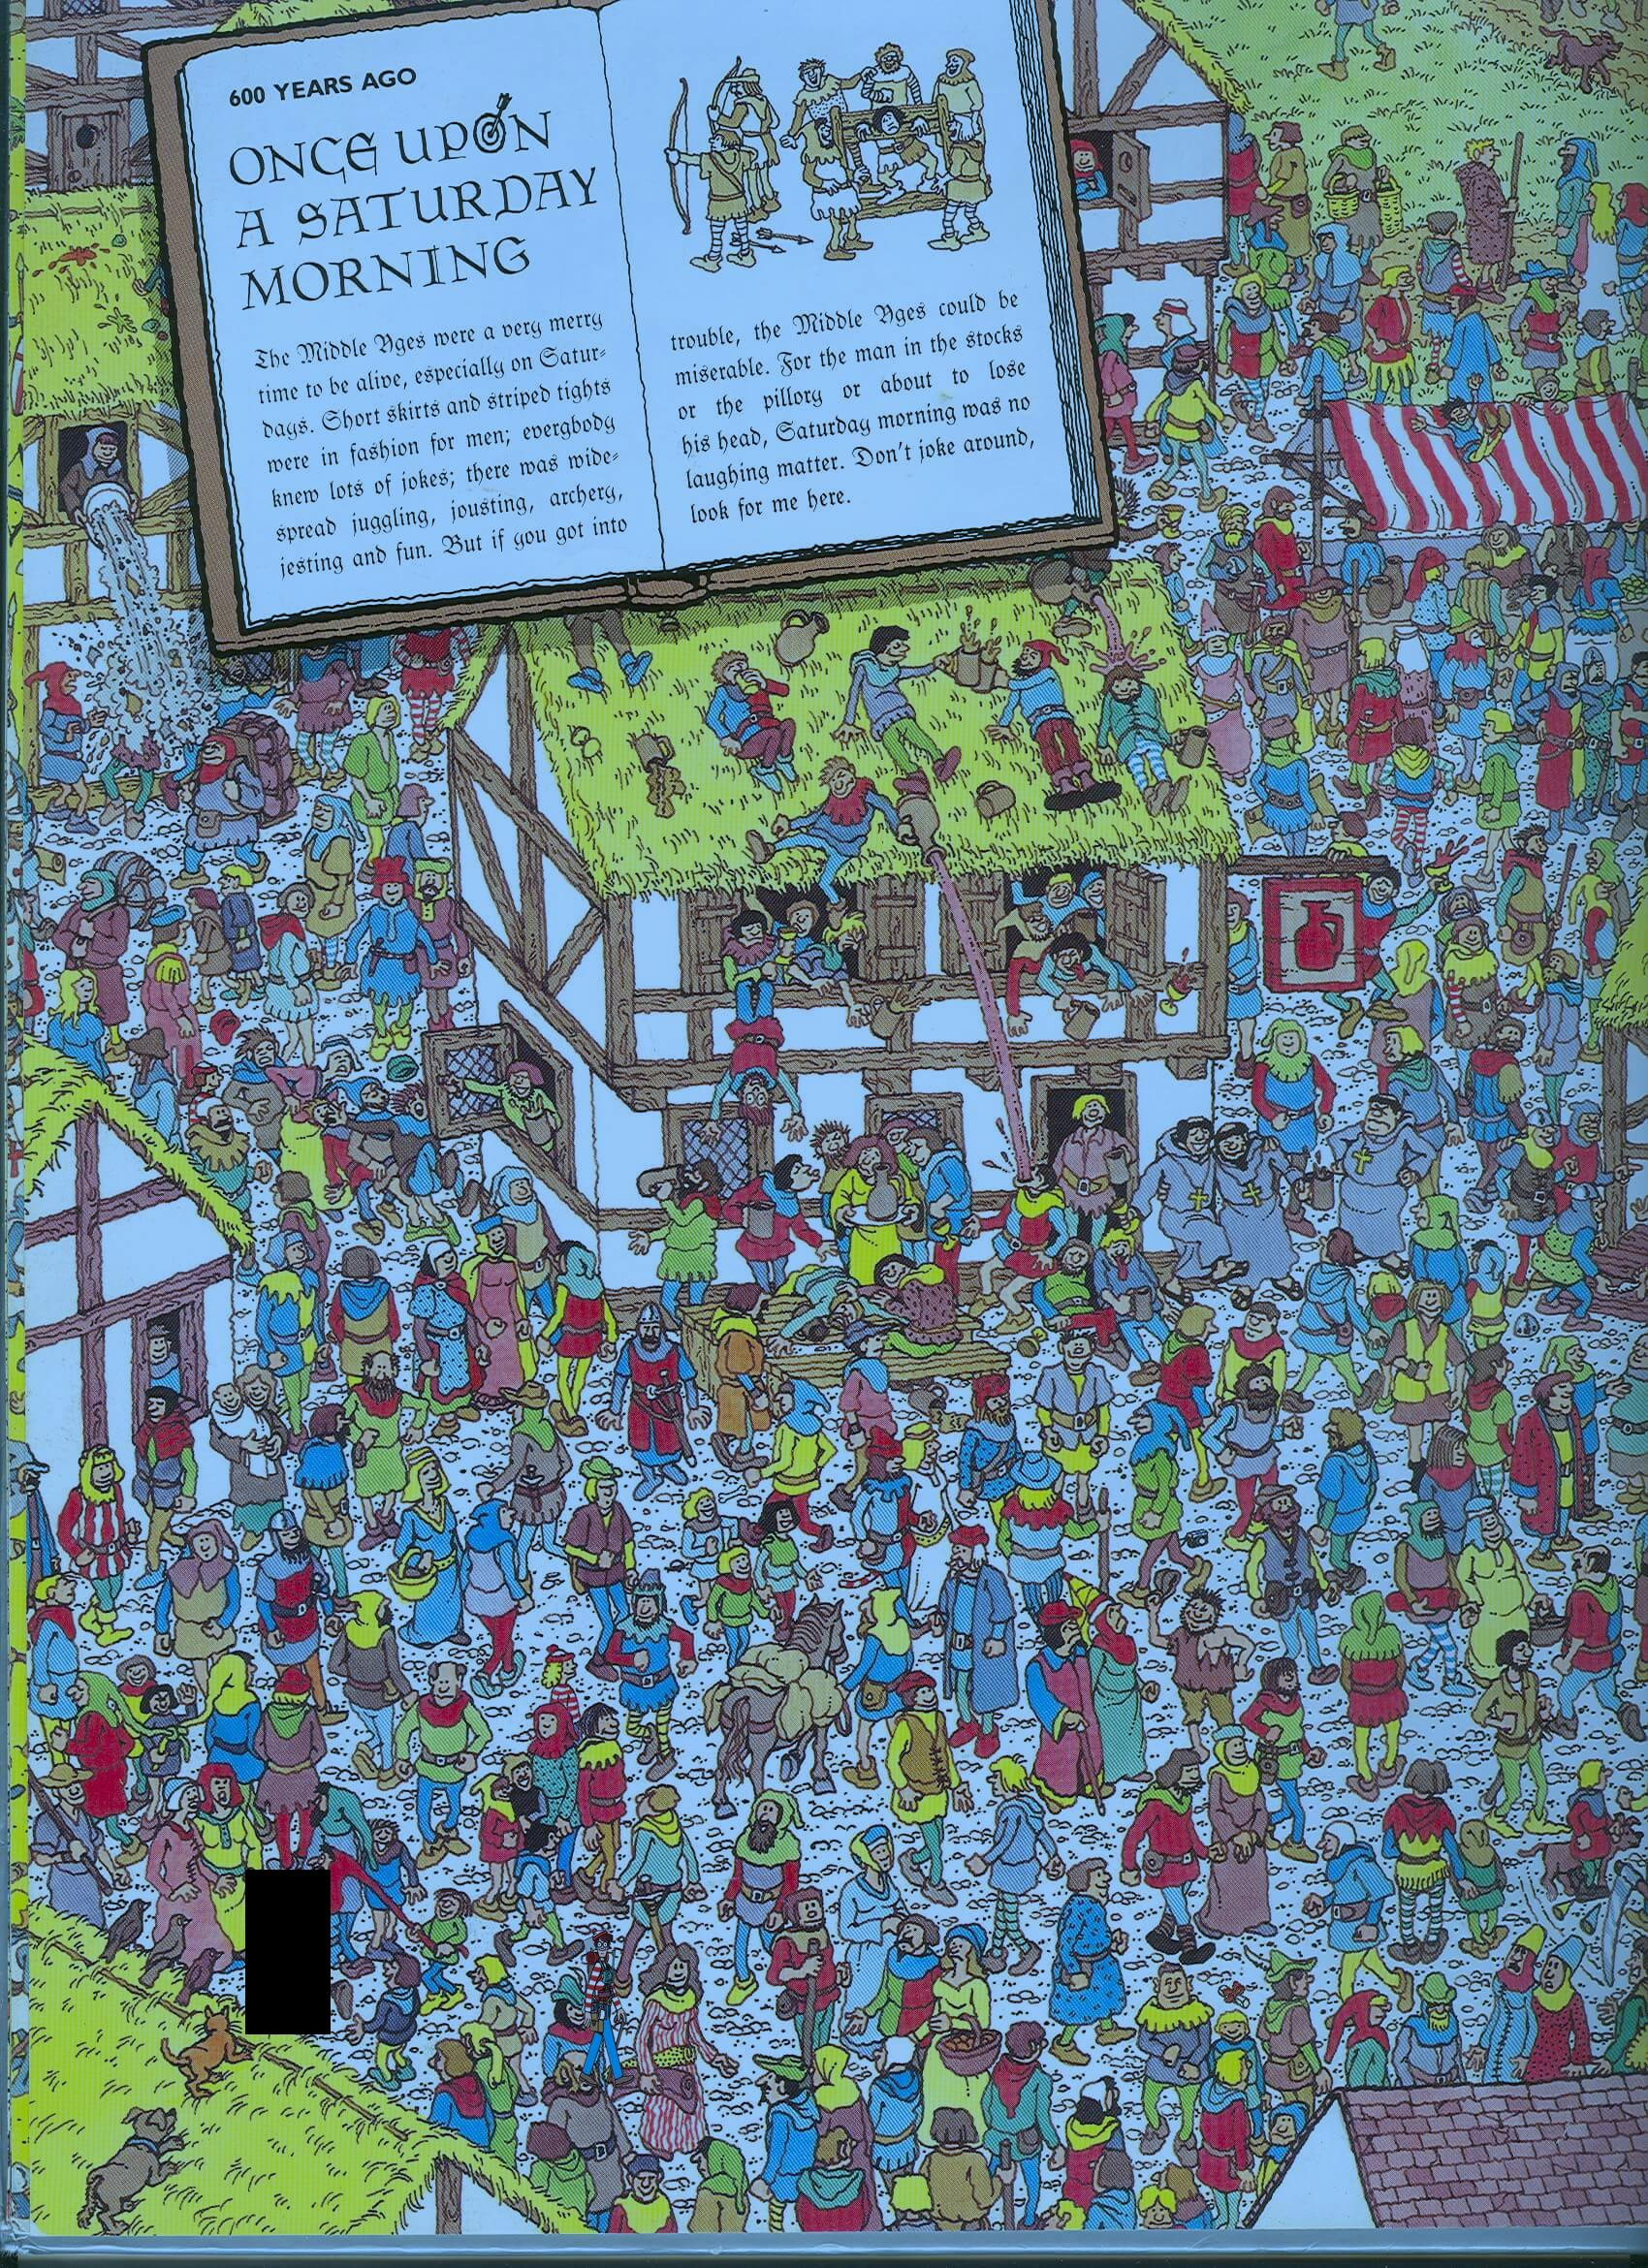waldos: (560, 1923, 644, 2088)
